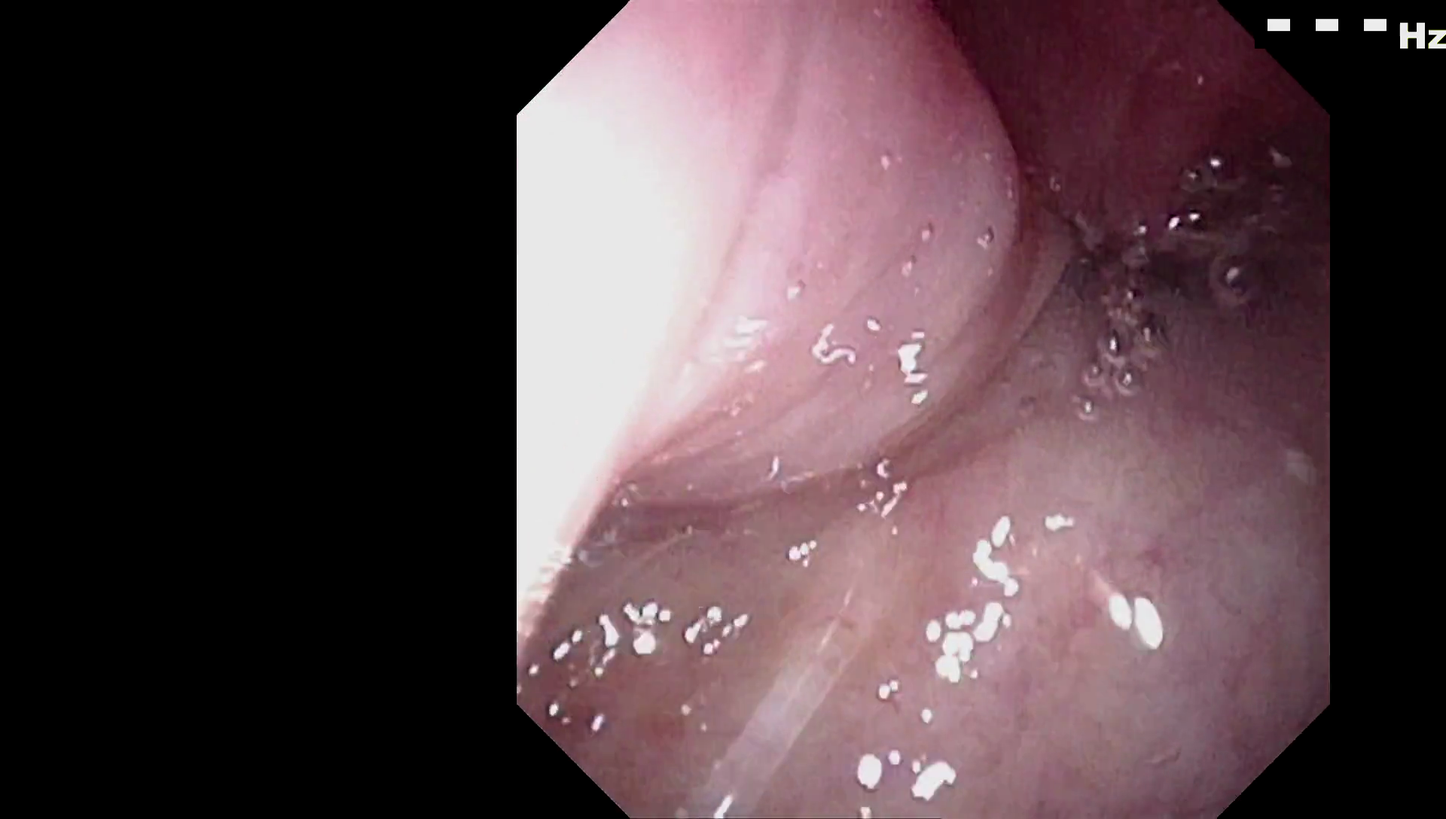close_wall: (524, 135, 861, 665)
